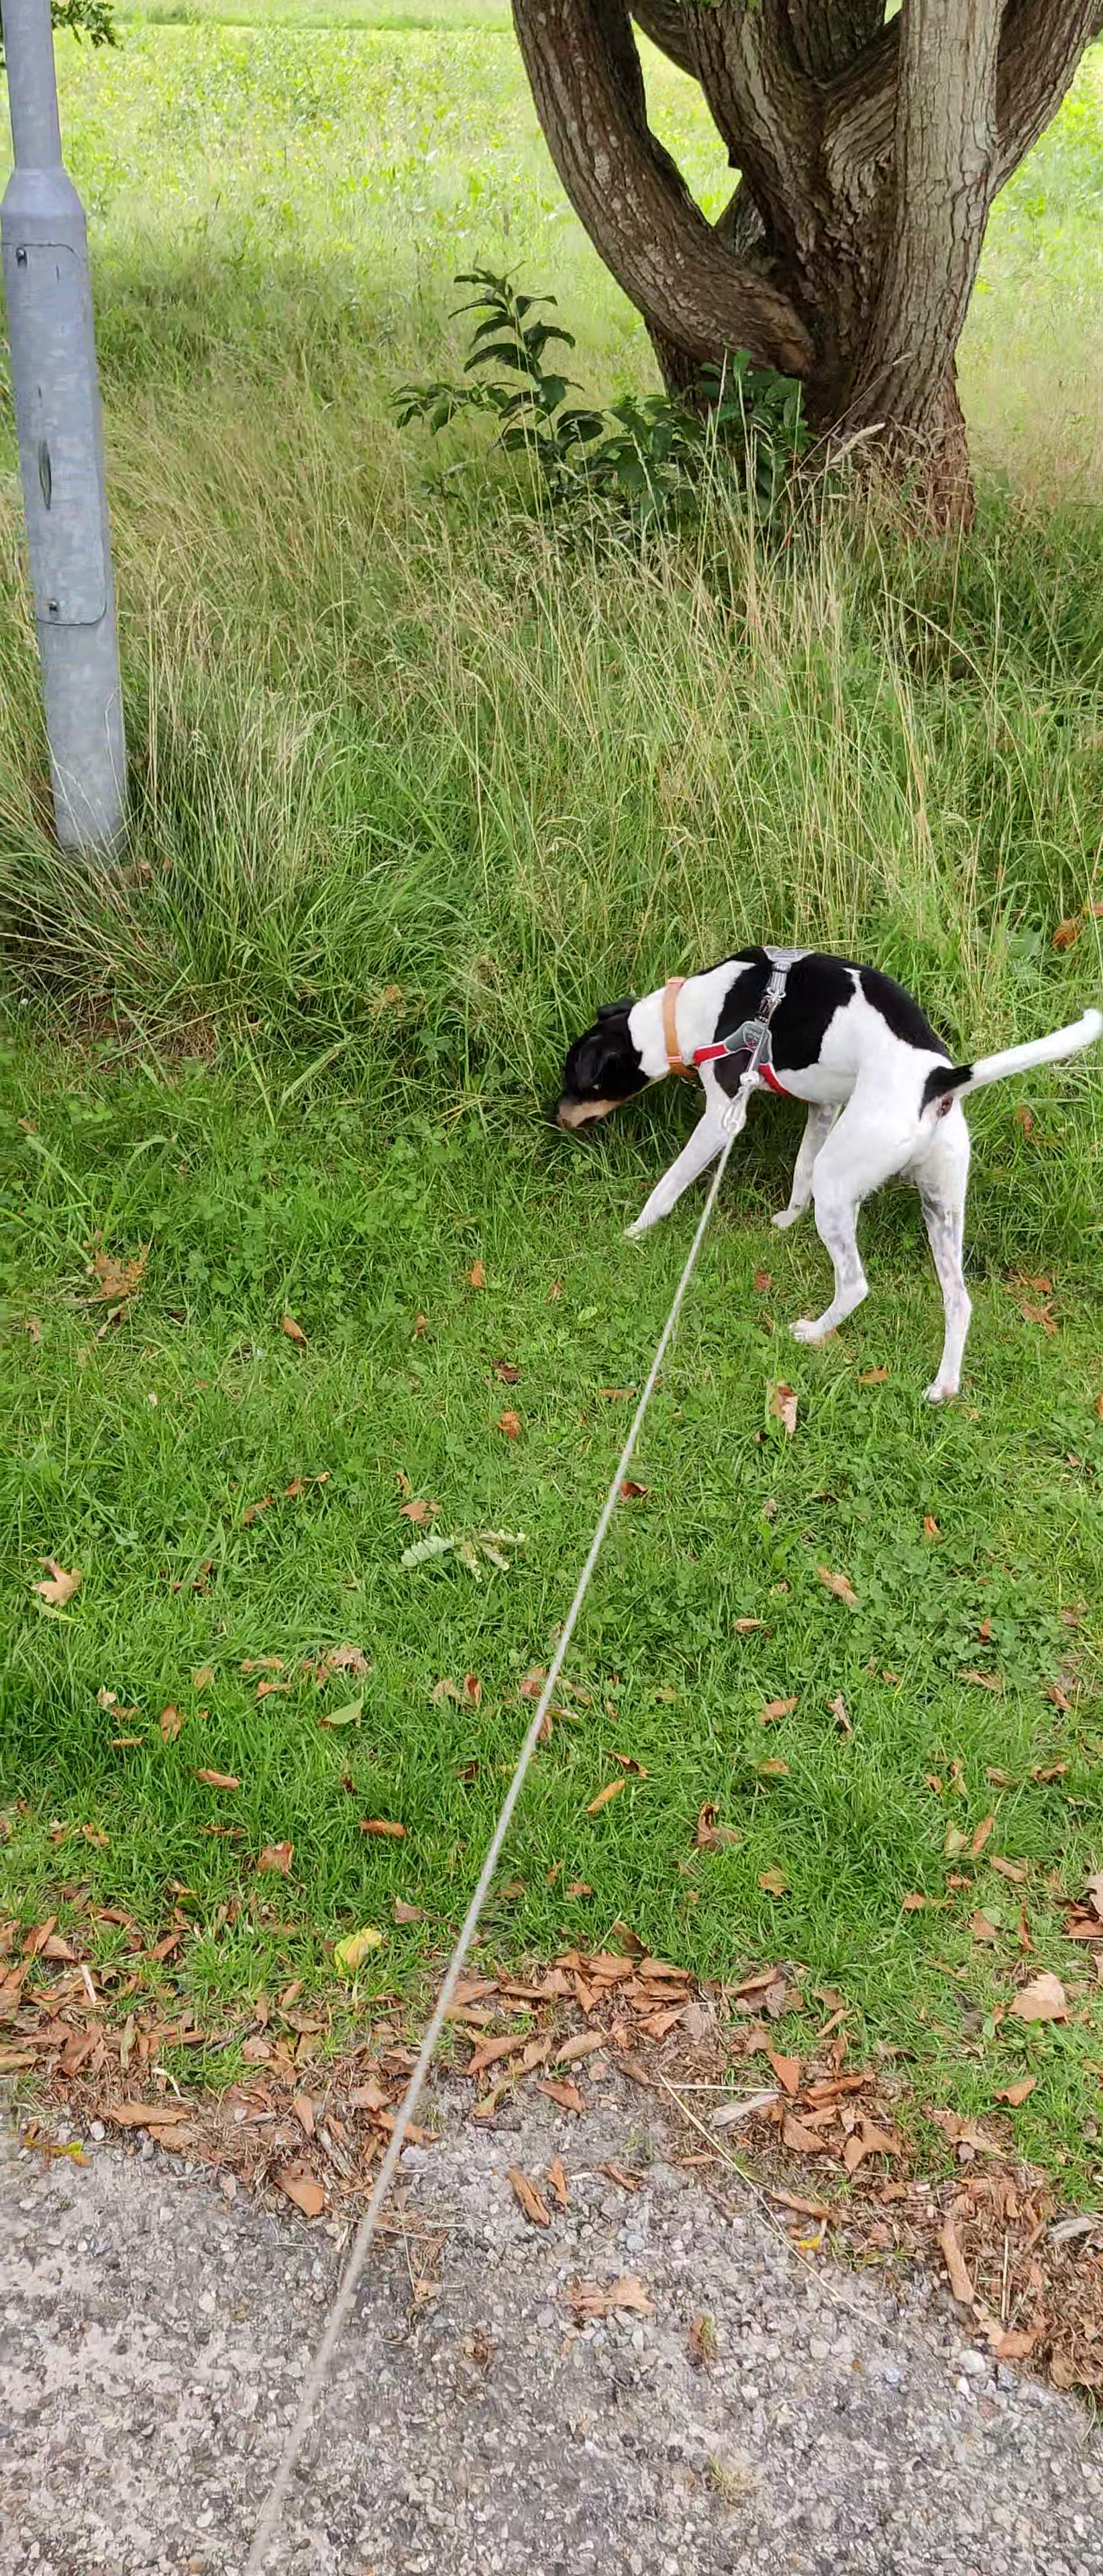Dog: (536, 933, 1103, 1405)
